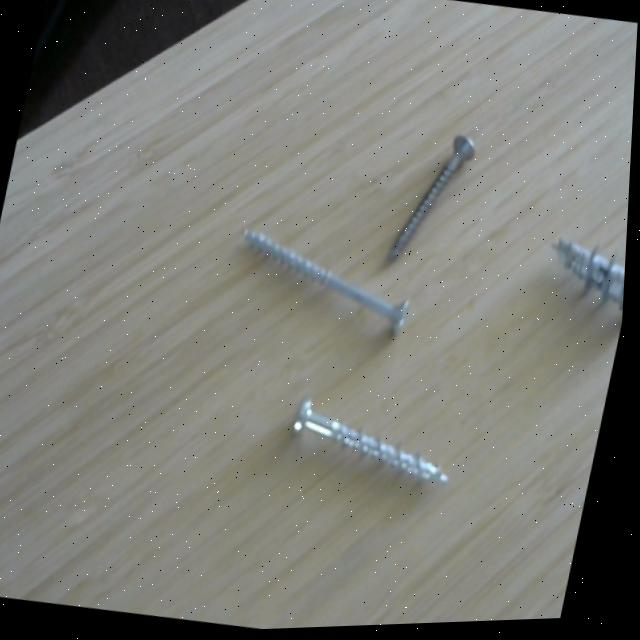Black screw: (381, 117, 486, 281)
Long screw: (223, 216, 437, 350)
Medium screw: (268, 386, 477, 506)
Short screw: (536, 221, 630, 329)
